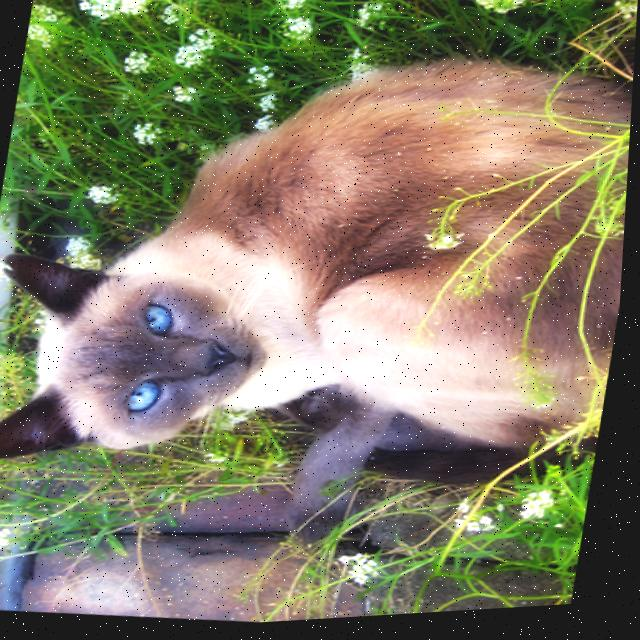Siamese: (0, 6, 638, 528)
